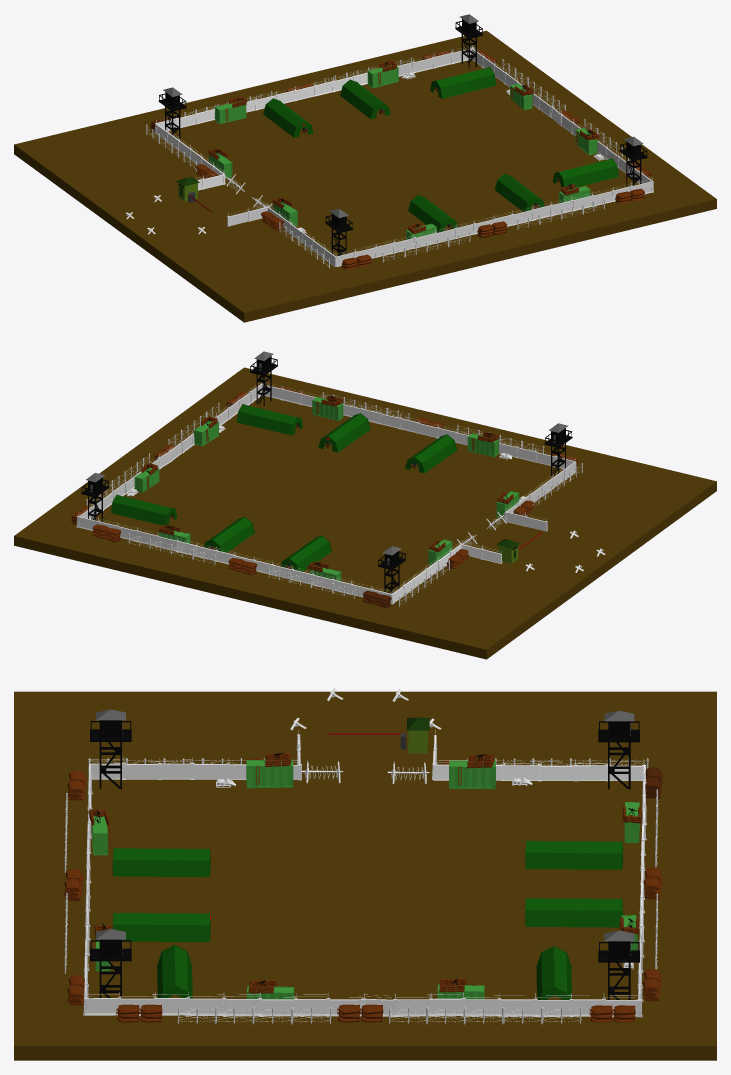
File: uploads_files_2050565_Militarybasepack (4).fbx
3 renders of one model, top to bottom at view 1: azimuth 30°, elevation 25°; view 2: azimuth 150°, elevation 25°; view 3: azimuth 270°, elevation 25°, orthographic. The views are drawn at different scales.
Parts seen in each view (by area): view 1: Cube, military tent, military tent.002, military tent.005, military tent.001, military tent.006, military tent.007, TOWER, TOWER.003, TOWER.001, TOWER.002, container.005 (+1 smaller); view 2: Cube, military tent.002, military tent, military tent.006, military tent.007, military tent.005, military tent.001, TOWER.003, TOWER.002, TOWER.001, TOWER, container.009 (+1 smaller); view 3: Cube, military tent.005, military tent.001, military tent.007, military tent.006, military tent, military tent.002, TOWER.001, TOWER.002, TOWER.003, TOWER, container.004 (+20 smaller).
Part boxes in pixels (<box>): Cube: <box>14,30,716,322</box>; military tent: <box>430,67,496,98</box>; military tent.002: <box>553,158,618,187</box>; military tent.005: <box>340,79,390,119</box>; military tent.001: <box>263,98,313,137</box>; military tent.006: <box>494,174,544,211</box>; military tent.007: <box>408,195,457,232</box>; TOWER: <box>455,19,483,68</box>; TOWER.003: <box>619,141,647,186</box>; TOWER.001: <box>158,92,186,139</box>; TOWER.002: <box>325,213,353,255</box>; container.005: <box>215,100,246,123</box>; Cube: <box>14,367,716,659</box>; military tent.002: <box>236,404,302,435</box>; military tent: <box>111,494,177,525</box>; military tent.006: <box>318,413,370,452</box>; military tent.007: <box>405,434,457,473</box>; military tent.005: <box>204,517,254,552</box>; military tent.001: <box>280,535,331,571</box>; TOWER.003: <box>250,356,277,405</box>; TOWER.002: <box>544,428,572,475</box>; TOWER.001: <box>378,551,405,593</box>; TOWER: <box>81,477,109,521</box>; container.009: <box>467,433,498,457</box>; Cube: <box>14,691,716,1060</box>; military tent.005: <box>525,898,623,927</box>; military tent.001: <box>525,840,623,869</box>; military tent.007: <box>112,848,210,877</box>; military tent.006: <box>112,912,210,942</box>; military tent: <box>536,946,571,999</box>; military tent.002: <box>156,945,192,998</box>; TOWER.001: <box>598,721,639,789</box>; TOWER.002: <box>90,720,131,789</box>; TOWER.003: <box>90,939,131,998</box>; TOWER: <box>598,941,639,999</box>; container.004: <box>246,759,293,788</box>.
Size of what is drawn, in the model's own units: 6628 by 814 by 5592.
